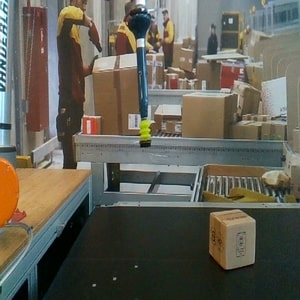box: (208, 208, 256, 271)
